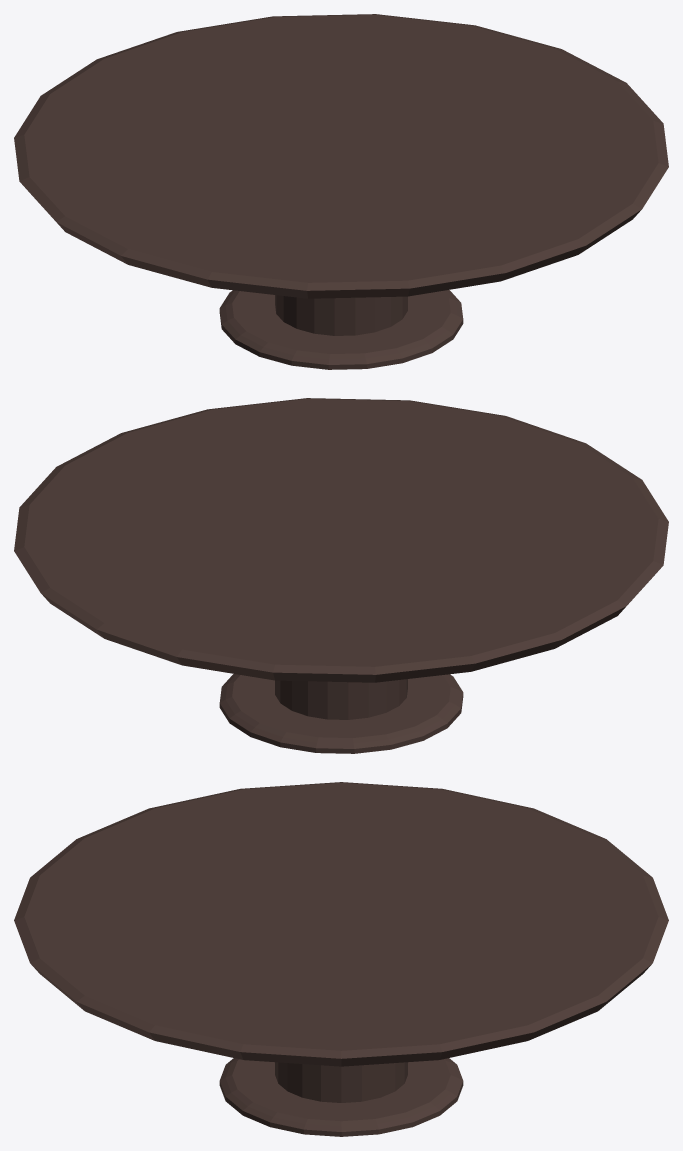
File: table_1.fbx
3 renders of one model, top to bottom at view 1: azimuth 30°, elevation 25°; view 2: azimuth 150°, elevation 25°; view 3: azimuth 270°, elevation 25°, orthographic.
Parts seen in each view (by area): view 1: pCylinder8; view 2: pCylinder8; view 3: pCylinder8.
Part boxes in pixels (x1=…): pCylinder8: x1=14, y1=14, x2=668, y2=369; pCylinder8: x1=14, y1=398, x2=668, y2=753; pCylinder8: x1=14, y1=782, x2=668, y2=1136.
Size of the model in its own units: 448 by 127 by 448.
